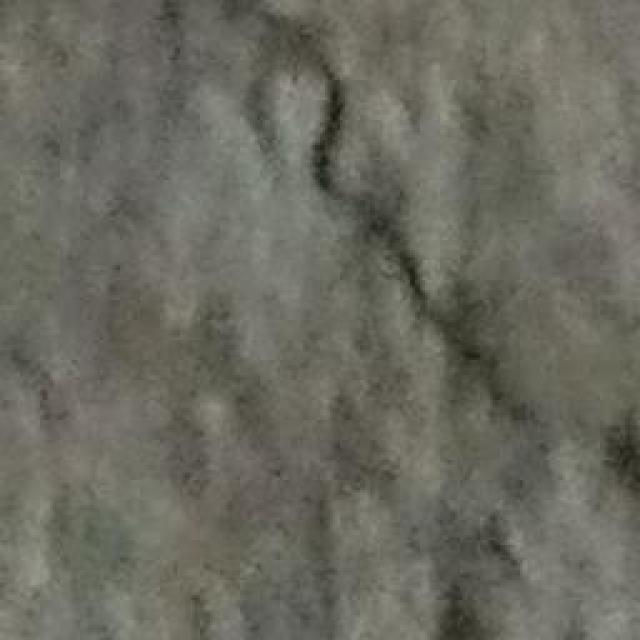Diagonal: (204, 0, 637, 485)
